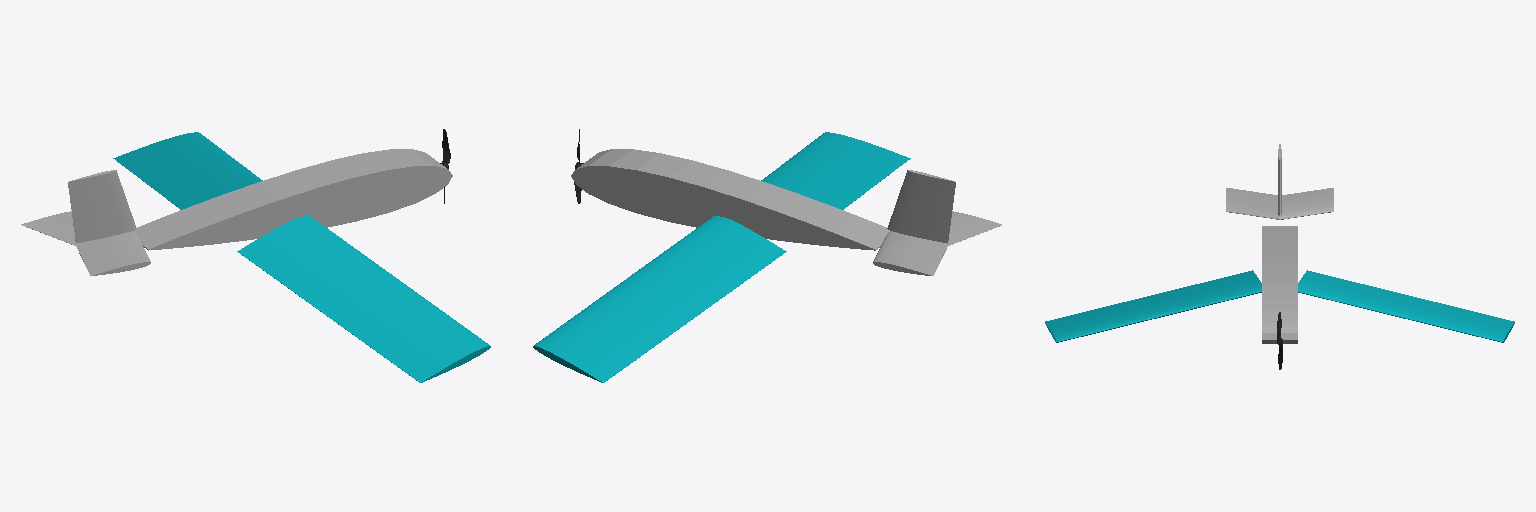
robot.urdf — drone_ea:
<robot name="drone_ea">
 <material name="grey">
  <color rgba="0.7 0.7 0.7 1" />
 </material>
 <material name="red">
  <color rgba="0.08235294117647059 0.7176470588235294 0.7647058823529411 1" />
 </material>
 <material name="black">
  <color rgba="0.2 0.2 0.2 1" />
 </material>
 <link name="root_link">
  <inertial>
   <origin rpy="0 0 0" xyz="0 0 0" />
   <mass value="0" />
   <inertia ixx="0" ixy="0" ixz="0" iyy="0" iyz="0" izz="0" />
  </inertial>
 </link>
 <joint name="fixed_joint_base_fuselage" type="fixed">
  <parent link="root_link" />
  <child link="fuselage" />
  <origin rpy="3.141592653589793 0 0" xyz="0 0 0" />
 </joint>
 <link name="fuselage">
  <inertial>
   <origin rpy="0 0 0" xyz="-0.344 0 0" />
   <mass value="0.55" />
   <inertia ixx="0.00029015955" ixy="0" ixz="0" iyy="0.0074080147" iyz="0" izz="0.0074511885" />
  </inertial>
  <visual>
   <origin rpy="0 0 0" xyz="0 0 0" />
   <geometry>
    <mesh filename="package://ros_muav/meshes/fuselage0014_tail0009.stl" scale="0.001 0.001 0.001" />
   </geometry>
   <material name="grey" />
  </visual>
 </link>
 <joint name="fixed_joint_aero_frame_fuselage" type="fixed">
  <parent link="fuselage" />
  <child link="aero_frame_fuselage" />
  <origin rpy="0 3.141592653589793 0" xyz="-0.344 0 0" />
 </joint>
 <link name="aero_frame_fuselage" />
 <joint name="fixed_joint_right_wing" type="fixed">
  <parent link="fuselage" />
  <child link="fuselage_right_0" />
  <origin rpy="-0.17453292519943295 -0.13962634015954636 2.9670597283903604" xyz="-0.4 0.05 0.02" />
 </joint>
 <link name="fuselage_right_0">
  <inertial>
   <mass value="0.018" />
   <origin rpy="0 0 0" xyz="0 0 0" />
   <inertia ixx="2.1333333333333334e-06" ixy="0" ixz="0" iyy="2.1333333333333334e-06" iyz="0" izz="2.1333333333333334e-06" />
  </inertial>
 </link>
 <joint name="joint_0_twist_right_wing" type="revolute">
  <parent link="fuselage_right_0" />
  <child link="fuselage_right_1" />
  <origin rpy="0 0 0" xyz="0 0 0" />
  <axis xyz="0 1 0" />
  <limit effort="0.26" lower="-0.5235987755982988" upper="0.5235987755982988" velocity="5.393067388662478" />
  <dynamics damping="1" friction="0" />
 </joint>
 <link name="fuselage_right_1">
  <inertial>
   <mass value="0.023" />
   <origin rpy="0 0 0" xyz="0 0 0" />
   <inertia ixx="2.7259259259259264e-06" ixy="0" ixz="0" iyy="2.7259259259259264e-06" iyz="0" izz="2.7259259259259264e-06" />
  </inertial>
 </link>
 <joint name="joint_1_sweep_right_wing" type="revolute">
  <parent link="fuselage_right_1" />
  <child link="fuselage_right_2" />
  <origin rpy="0 0 0" xyz="0 0 0" />
  <axis xyz="0 0 1" />
  <limit effort="0.46" lower="-0.5235987755982988" upper="0.5235987755982988" velocity="3.4033920413889422" />
  <dynamics damping="1" friction="0" />
 </joint>
 <link name="fuselage_right_2">
  <inertial>
   <mass value="0.082" />
   <origin rpy="0 0 0" xyz="0 0 0" />
   <inertia ixx="1.8041518518518523e-05" ixy="0" ixz="0" iyy="1.8041518518518523e-05" iyz="0" izz="1.8041518518518523e-05" />
  </inertial>
 </link>
 <joint name="joint_2_dihedral_right_wing" type="revolute">
  <parent link="fuselage_right_2" />
  <child link="right_wing" />
  <origin rpy="0 0 0" xyz="0 0 0" />
  <axis xyz="1 0 0" />
  <limit effort="1.7" lower="-0.5235987755982988" upper="0.5235987755982988" velocity="1.5707963267948966" />
  <dynamics damping="1" friction="0" />
 </joint>
 <link name="right_wing">
  <inertial>
   <origin rpy="0 0 0" xyz="0.034436664 -0.30000000000000004 0" />
   <mass value="0.044443751636563215" />
   <inertia ixx="0.0013341279266217603" ixy="0" ixz="0" iyy="9.843945502684803e-05" iyz="0" izz="0.0014309365780483206" />
  </inertial>
  <visual>
   <origin rpy="0 0 0" xyz="0 0 0" />
   <geometry>
    <mesh filename="package://ros_muav/meshes/wing0009.stl" scale="0.2 0.6000000000000001 0.2" />
   </geometry>
   <material name="red" />
  </visual>
 </link>
 <joint name="fixed_joint_aero_frame_right_wing" type="fixed">
  <parent link="right_wing" />
  <child link="aero_frame_right_wing" />
  <origin rpy="3.141592653589793 0 0" xyz="0.034436664 -0.30000000000000004 0" />
 </joint>
 <link name="aero_frame_right_wing" />
 <joint name="fixed_joint_left_wing" type="fixed">
  <parent link="fuselage" />
  <child link="fuselage_left_0" />
  <origin rpy="0.17453292519943295 3.2812189937493397 0.17453292519943295" xyz="-0.4 -0.05 0.02" />
 </joint>
 <link name="fuselage_left_0">
  <inertial>
   <mass value="0.018" />
   <origin rpy="0 0 0" xyz="0 0 0" />
   <inertia ixx="2.1333333333333334e-06" ixy="0" ixz="0" iyy="2.1333333333333334e-06" iyz="0" izz="2.1333333333333334e-06" />
  </inertial>
 </link>
 <joint name="joint_0_twist_left_wing" type="revolute">
  <parent link="fuselage_left_0" />
  <child link="fuselage_left_1" />
  <origin rpy="0 0 0" xyz="0 0 0" />
  <axis xyz="0 -1 0" />
  <limit effort="0.26" lower="-0.5235987755982988" upper="0.5235987755982988" velocity="5.393067388662478" />
  <dynamics damping="1" friction="0" />
 </joint>
 <link name="fuselage_left_1">
  <inertial>
   <mass value="0.023" />
   <origin rpy="0 0 0" xyz="0 0 0" />
   <inertia ixx="2.7259259259259264e-06" ixy="0" ixz="0" iyy="2.7259259259259264e-06" iyz="0" izz="2.7259259259259264e-06" />
  </inertial>
 </link>
 <joint name="joint_1_sweep_left_wing" type="revolute">
  <parent link="fuselage_left_1" />
  <child link="fuselage_left_2" />
  <origin rpy="0 0 0" xyz="0 0 0" />
  <axis xyz="0 0 1" />
  <limit effort="0.46" lower="-0.5235987755982988" upper="0.5235987755982988" velocity="3.4033920413889422" />
  <dynamics damping="1" friction="0" />
 </joint>
 <link name="fuselage_left_2">
  <inertial>
   <mass value="0.082" />
   <origin rpy="0 0 0" xyz="0 0 0" />
   <inertia ixx="1.8041518518518523e-05" ixy="0" ixz="0" iyy="1.8041518518518523e-05" iyz="0" izz="1.8041518518518523e-05" />
  </inertial>
 </link>
 <joint name="joint_2_dihedral_left_wing" type="revolute">
  <parent link="fuselage_left_2" />
  <child link="left_wing" />
  <origin rpy="0 0 0" xyz="0 0 0" />
  <axis xyz="-1 0 0" />
  <limit effort="1.7" lower="-0.5235987755982988" upper="0.5235987755982988" velocity="1.5707963267948966" />
  <dynamics damping="1" friction="0" />
 </joint>
 <link name="left_wing">
  <inertial>
   <origin rpy="0 0 0" xyz="0.034436664 -0.30000000000000004 0" />
   <mass value="0.044443751636563215" />
   <inertia ixx="0.0013341279266217603" ixy="0" ixz="0" iyy="9.843945502684803e-05" iyz="0" izz="0.0014309365780483206" />
  </inertial>
  <visual>
   <origin rpy="0 0 0" xyz="0 0 0" />
   <geometry>
    <mesh filename="package://ros_muav/meshes/wing0009.stl" scale="0.2 0.6000000000000001 0.2" />
   </geometry>
   <material name="red" />
  </visual>
 </link>
 <joint name="fixed_joint_aero_frame_left_wing" type="fixed">
  <parent link="left_wing" />
  <child link="aero_frame_left_wing" />
  <origin rpy="0 0 0" xyz="0.034436664 -0.30000000000000004 0" />
 </joint>
 <link name="aero_frame_left_wing" />
 <joint name="fixed_joint_collision_0" type="fixed">
  <parent link="fuselage" />
  <child link="collision_frame_0" />
  <origin rpy="0 0 0" xyz="0 0 0" />
 </joint>
 <link name="collision_frame_0" />
 <joint name="fixed_joint_collision_1" type="fixed">
  <parent link="fuselage" />
  <child link="collision_frame_1" />
  <origin rpy="0 0 0" xyz="-0.75 0 0" />
 </joint>
 <link name="collision_frame_1" />
 <joint name="fixed_joint_collision_2" type="fixed">
  <parent link="right_wing" />
  <child link="collision_frame_2" />
  <origin rpy="0 0 0" xyz="0.15000000000000002 -0.6000000000000001 0" />
 </joint>
 <link name="collision_frame_2" />
 <joint name="fixed_joint_collision_3" type="fixed">
  <parent link="right_wing" />
  <child link="collision_frame_3" />
  <origin rpy="0 0 0" xyz="-0.05 -0.6000000000000001 0" />
 </joint>
 <link name="collision_frame_3" />
 <joint name="fixed_joint_collision_4" type="fixed">
  <parent link="left_wing" />
  <child link="collision_frame_4" />
  <origin rpy="0 0 0" xyz="0.15000000000000002 -0.6000000000000001 0" />
 </joint>
 <link name="collision_frame_4" />
 <joint name="fixed_joint_collision_5" type="fixed">
  <parent link="left_wing" />
  <child link="collision_frame_5" />
  <origin rpy="0 0 0" xyz="-0.05 -0.6000000000000001 0" />
 </joint>
 <link name="collision_frame_5" />
 <joint name="fixed_joint_prop_frame_fuselage_0" type="fixed">
  <parent link="fuselage" />
  <child link="prop_frame_fuselage_0" />
  <origin rpy="3.141592653589793 -1.5707963267948966 0" xyz="0 0 0" />
 </joint>
 <link name="prop_frame_fuselage_0">
  <inertial>
   <mass value="0.031" />
   <origin rpy="0 0 0" xyz="0 0 0" />
   <inertia ixx="3.7625e-05" ixy="0" ixz="0" iyy="3.7625e-05" iyz="0" izz="7.5e-05" />
  </inertial>
  <visual>
   <origin rpy="0 0 0" xyz="0 0 0" />
   <geometry>
    <mesh filename="package://ros_muav/meshes/propeller.stl" scale="0.001 0.001 0.001" />
   </geometry>
   <material name="black" />
  </visual>
 </link>
</robot>

--- What the picture shows (computed from the rendered views, not written in the file) ---
3 views of the same robot in one strip: view 1: azimuth 30°, elevation 25°; view 2: azimuth 150°, elevation 25°; view 3: azimuth 270°, elevation 25° (orthographic).
Robot: drone_ea — 20 links, 19 joints (6 revolute, 13 fixed); root link root_link; default pose: every joint at zero.
Visible links, largest first — view 1: fuselage, right_wing, left_wing; view 2: fuselage, left_wing, right_wing; view 3: fuselage, right_wing, left_wing.
Link boxes in pixels (x1,y1,x2,y2): fuselage: (21,149,452,275); right_wing: (237,216,490,382); left_wing: (113,132,262,209); fuselage: (571,149,1001,275); left_wing: (533,216,786,382); right_wing: (761,132,910,209); fuselage: (1226,144,1333,343); right_wing: (1045,270,1261,342); left_wing: (1298,270,1514,342).
Size in the robot's own frame: 0.9695 by 1.31 by 0.3242 metres.
4 mesh visuals loaded from 3 distinct referenced files (3 binary STL).
